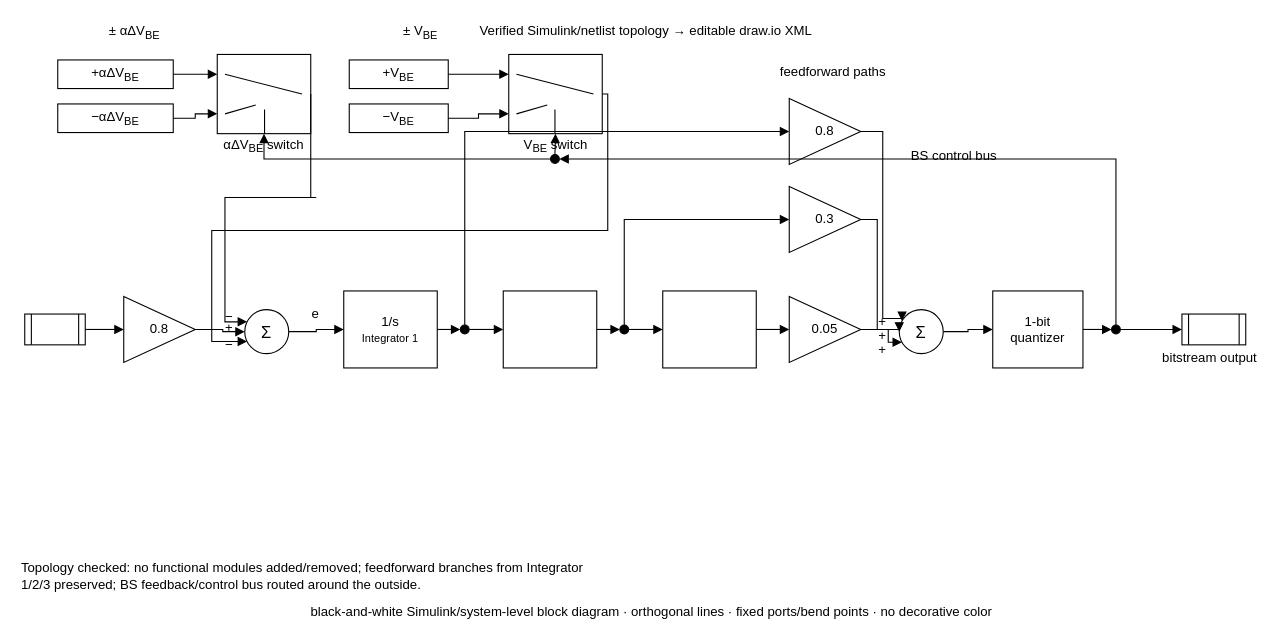
Some shapes in this 1286 by 644 pixel diagram are drawn without their labels. Here are the shapes that lost their labels. From the top down, the centre of each, then its label:
At pixel 54 329: "Vin".
At pixel 549 329: "1/s Integrator 2".
At pixel 709 329: "1/s Integrator 3".
At pixel 1213 329: "BS".
